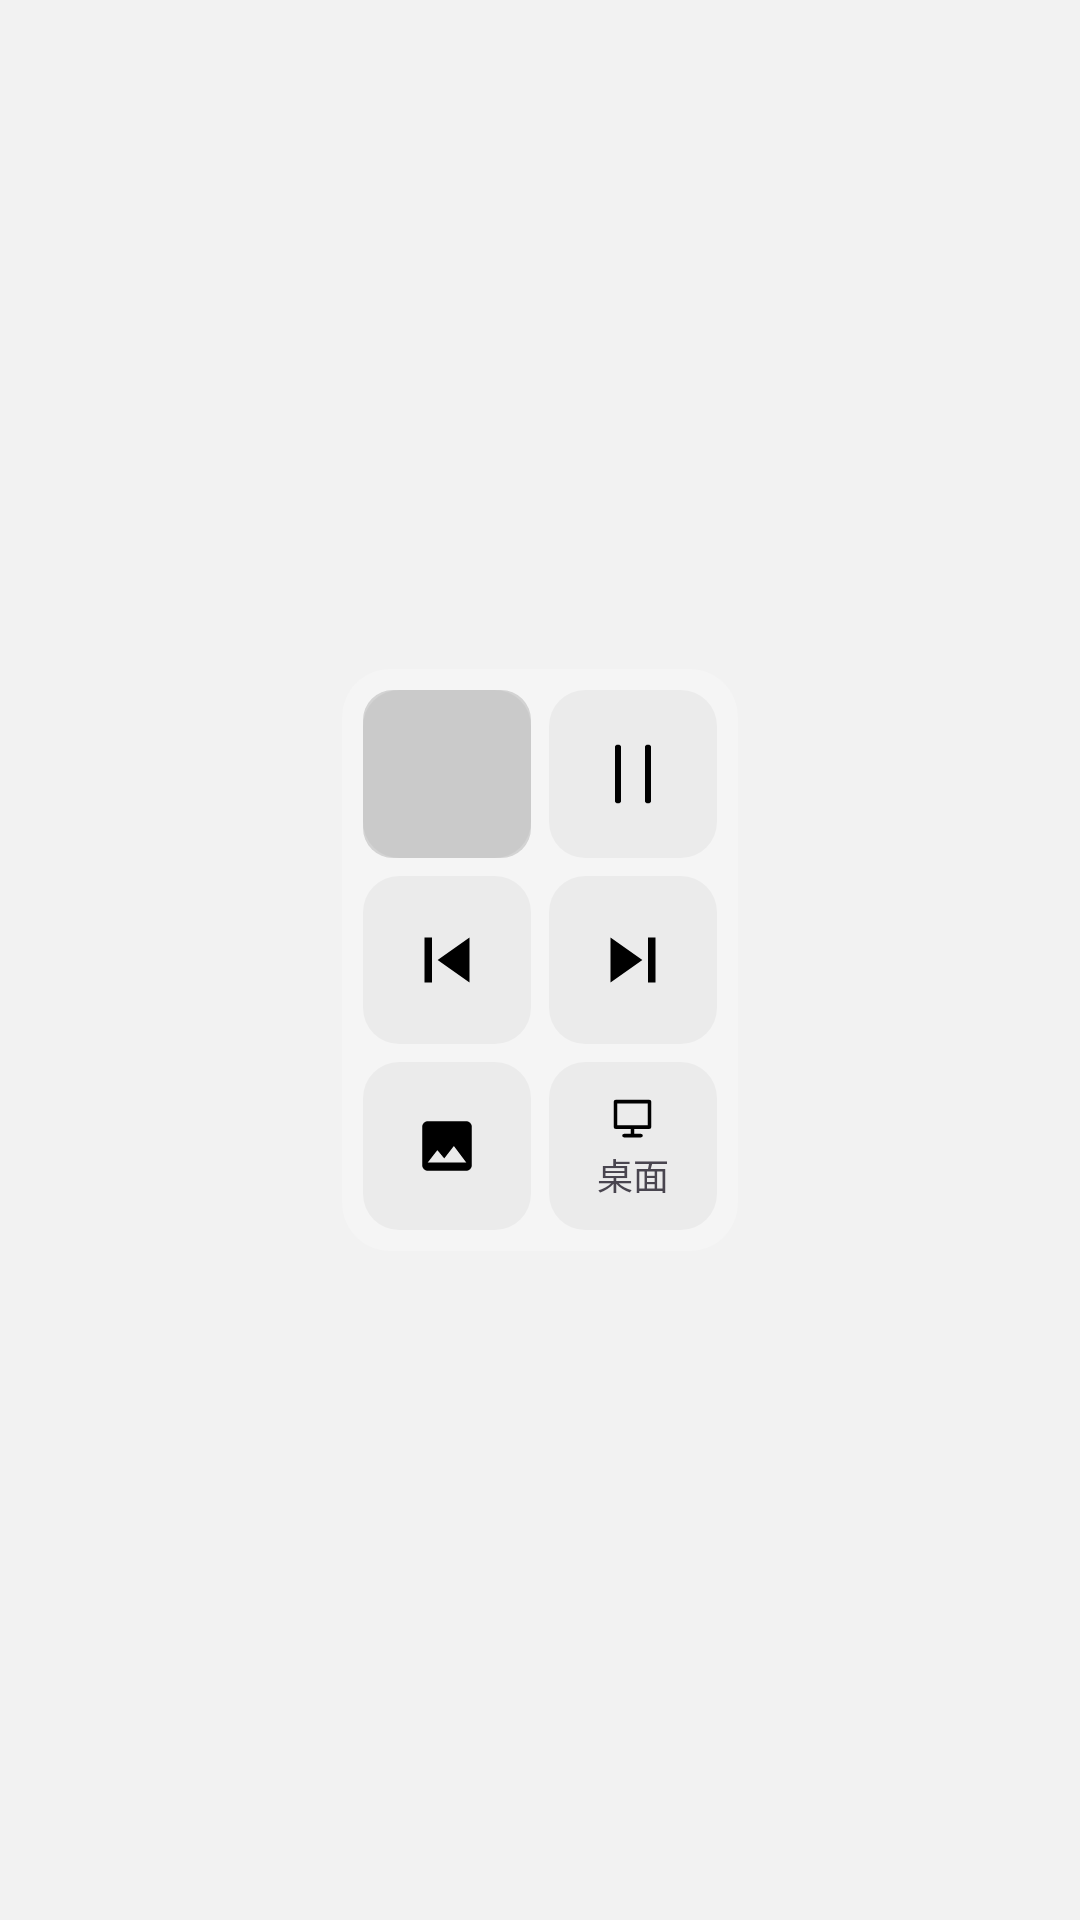

Named icons in this screenshot (1080px x 1920px) and their bounding boxes, (x1, y1, x2, y2):
上一张: (424, 937, 470, 983)
下一张: (610, 937, 656, 983)
暂停或继续当前范围的自动切换: (615, 744, 651, 804)
